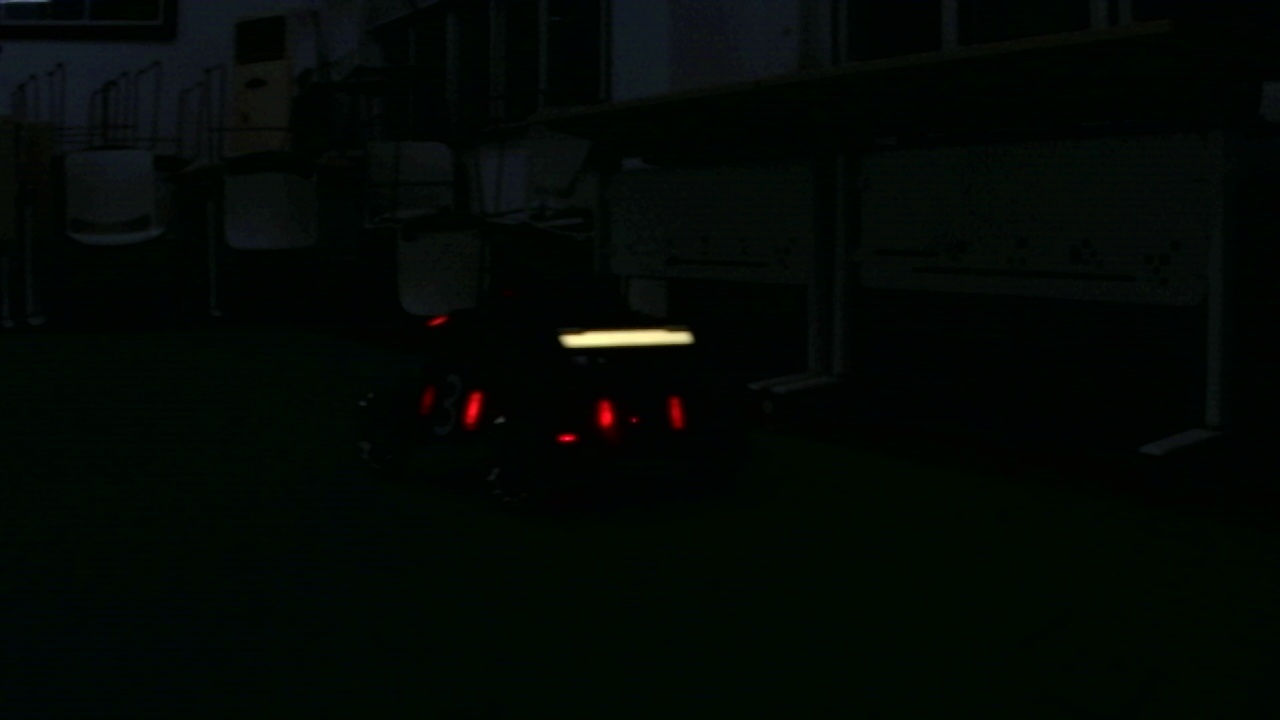lamp: (463, 387, 483, 432), (667, 389, 685, 431), (599, 391, 613, 432)
notpair1: (454, 385, 617, 436)
pair1: (601, 392, 685, 440)
